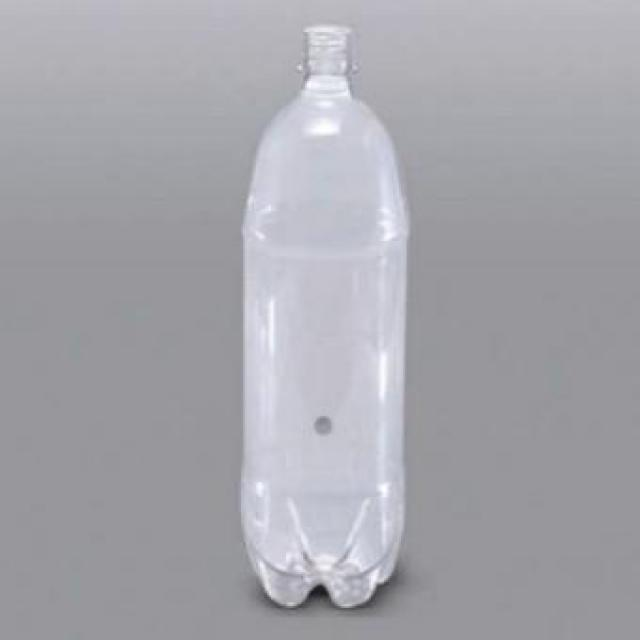bottle: (229, 10, 430, 610)
